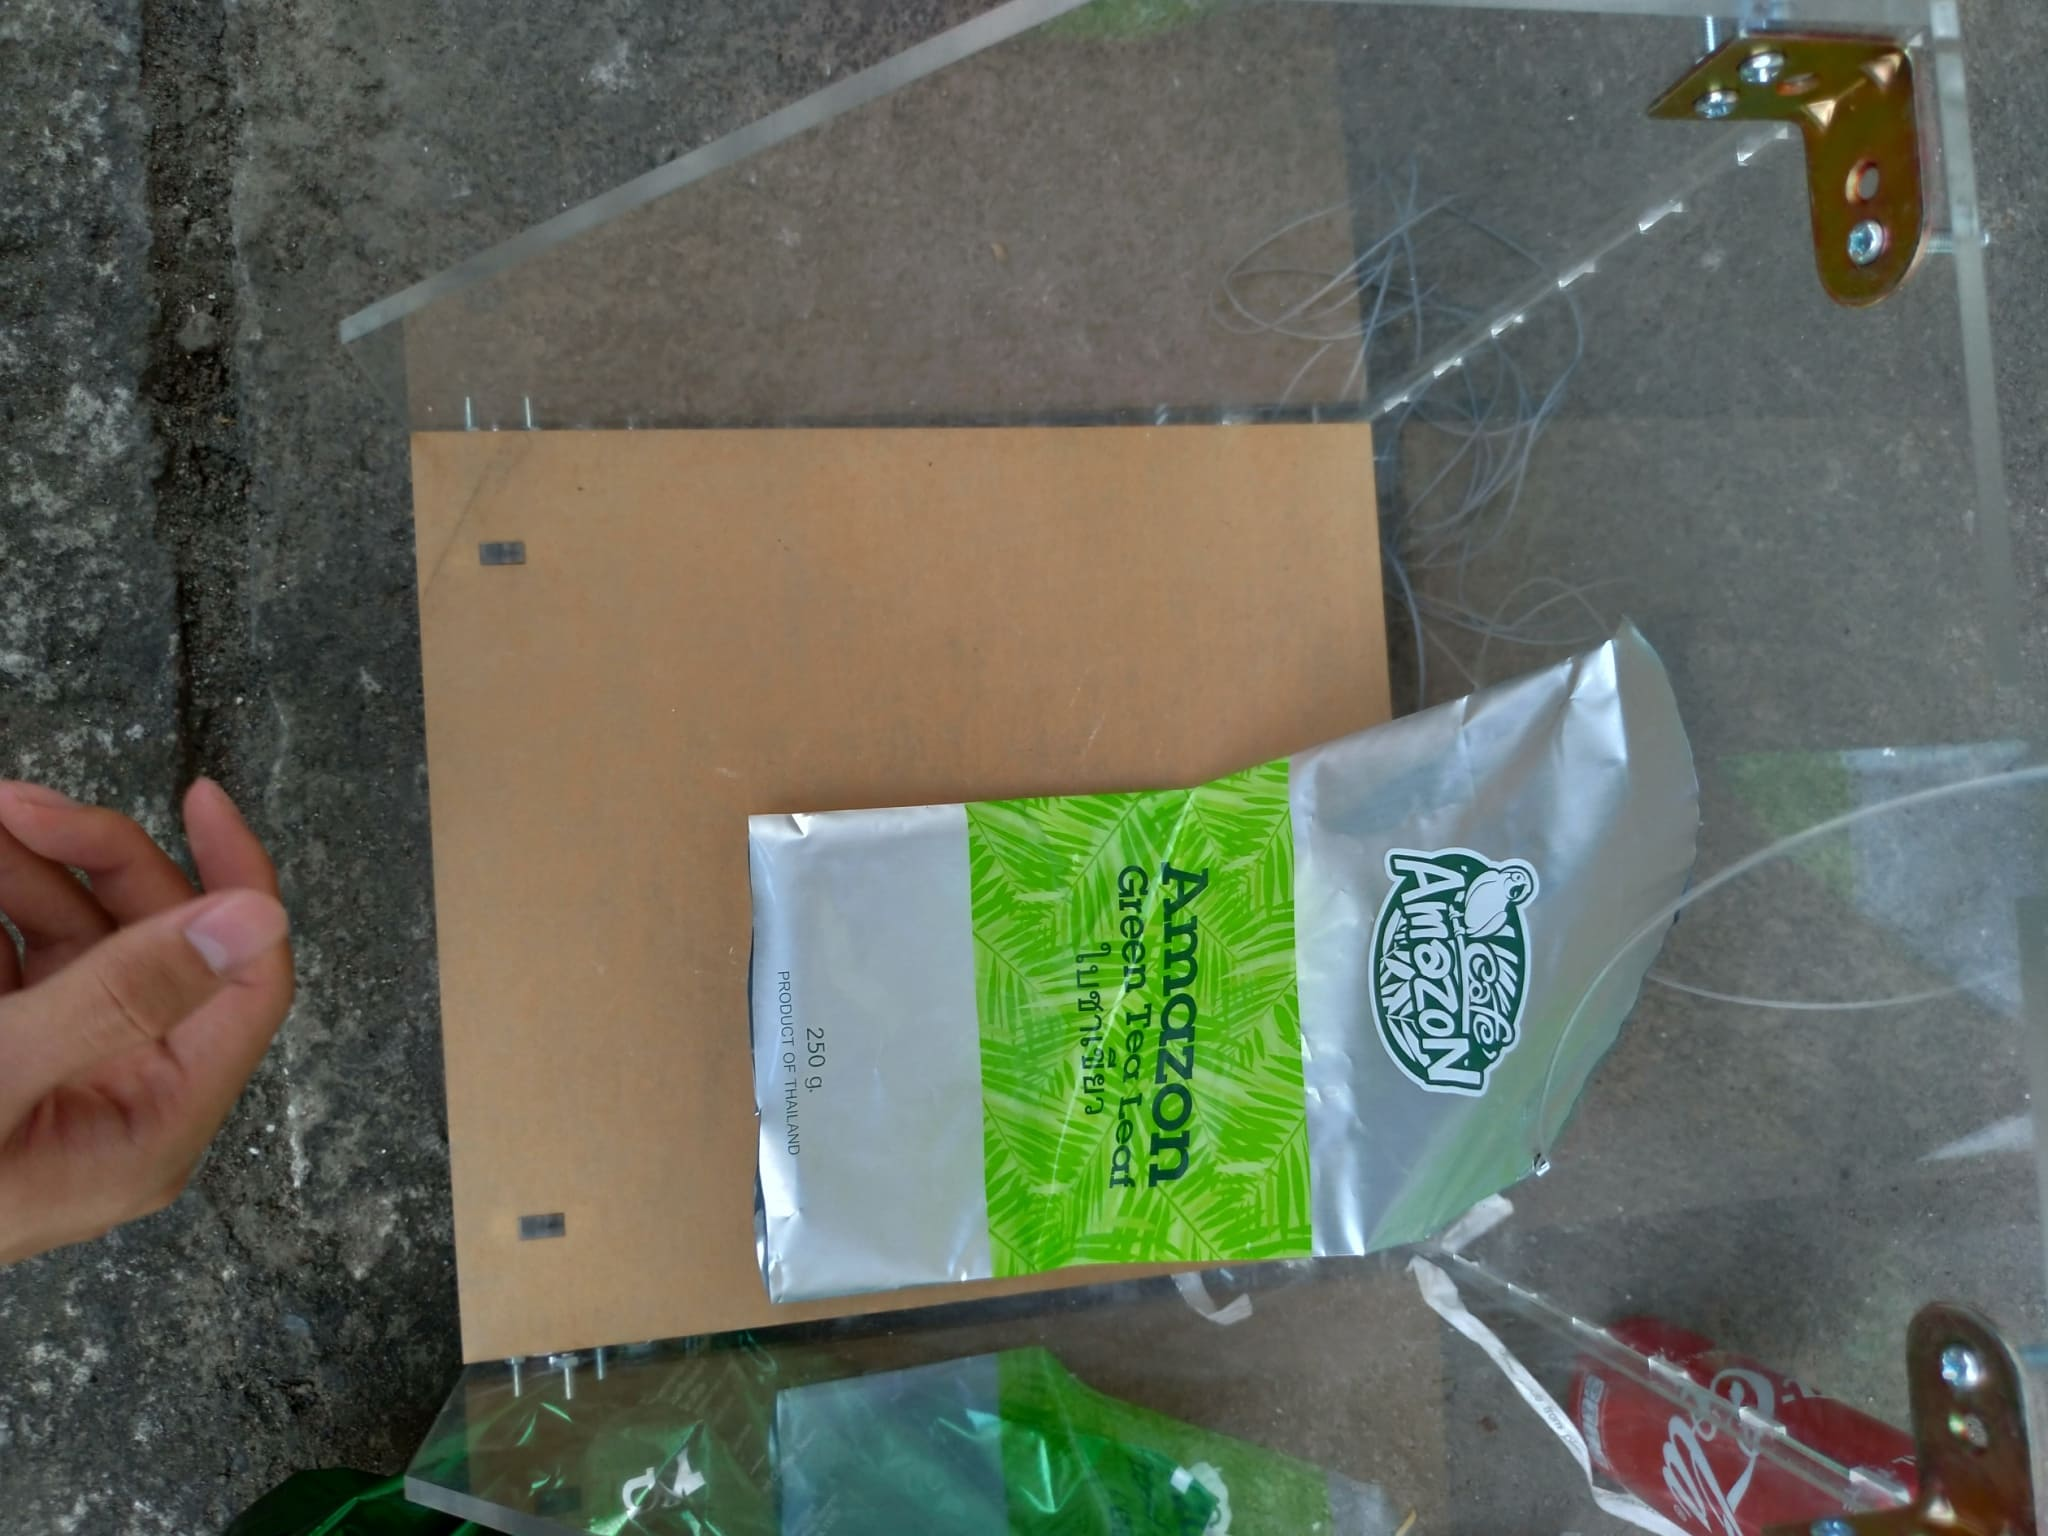AlCan: (1567, 1296, 1958, 1536)
Others: (751, 624, 1701, 1305), (182, 1307, 1130, 1536)
